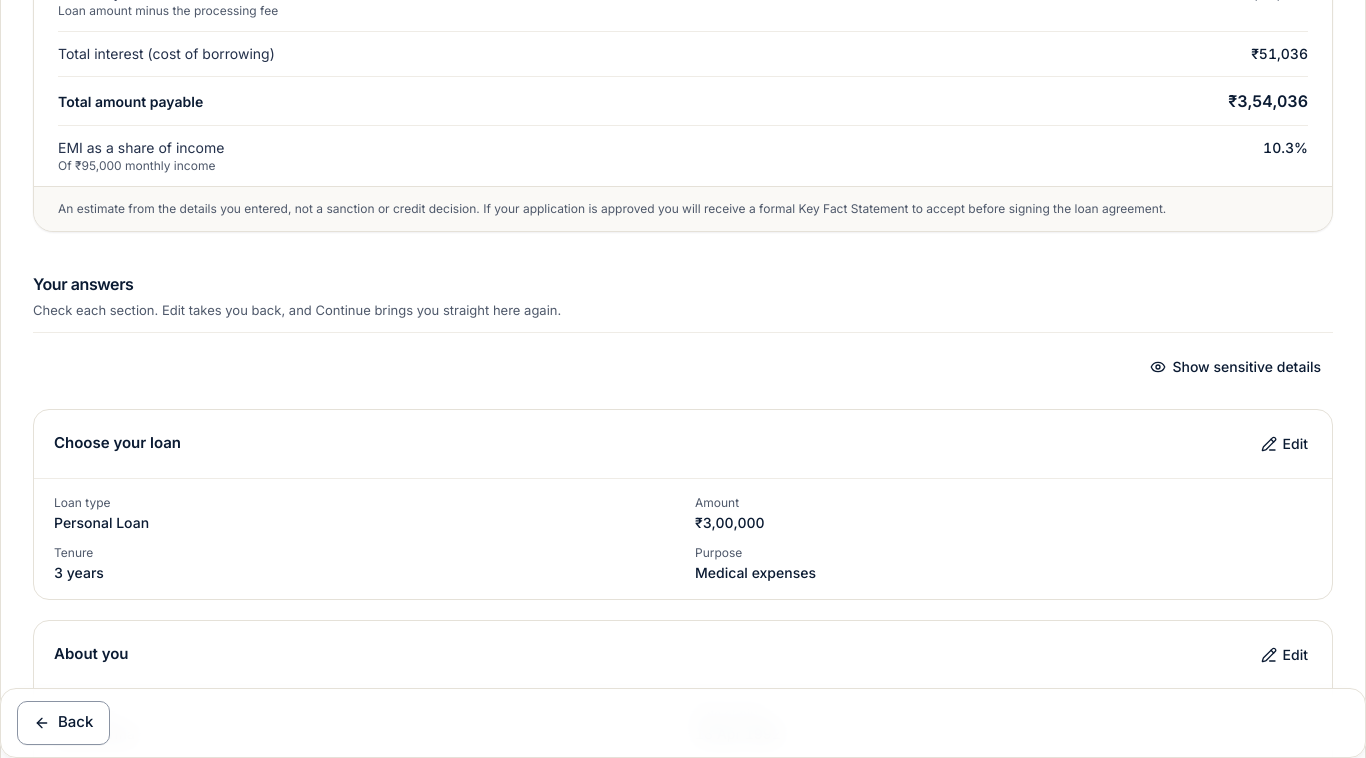
Test: Step 8 — review and submit › masks identifiers until the applicant reveals them
(page scrolled)
Click the button "Show sensitive details". click: [1236, 366]
box: [1138,344,1333,388]
(page scrolled)
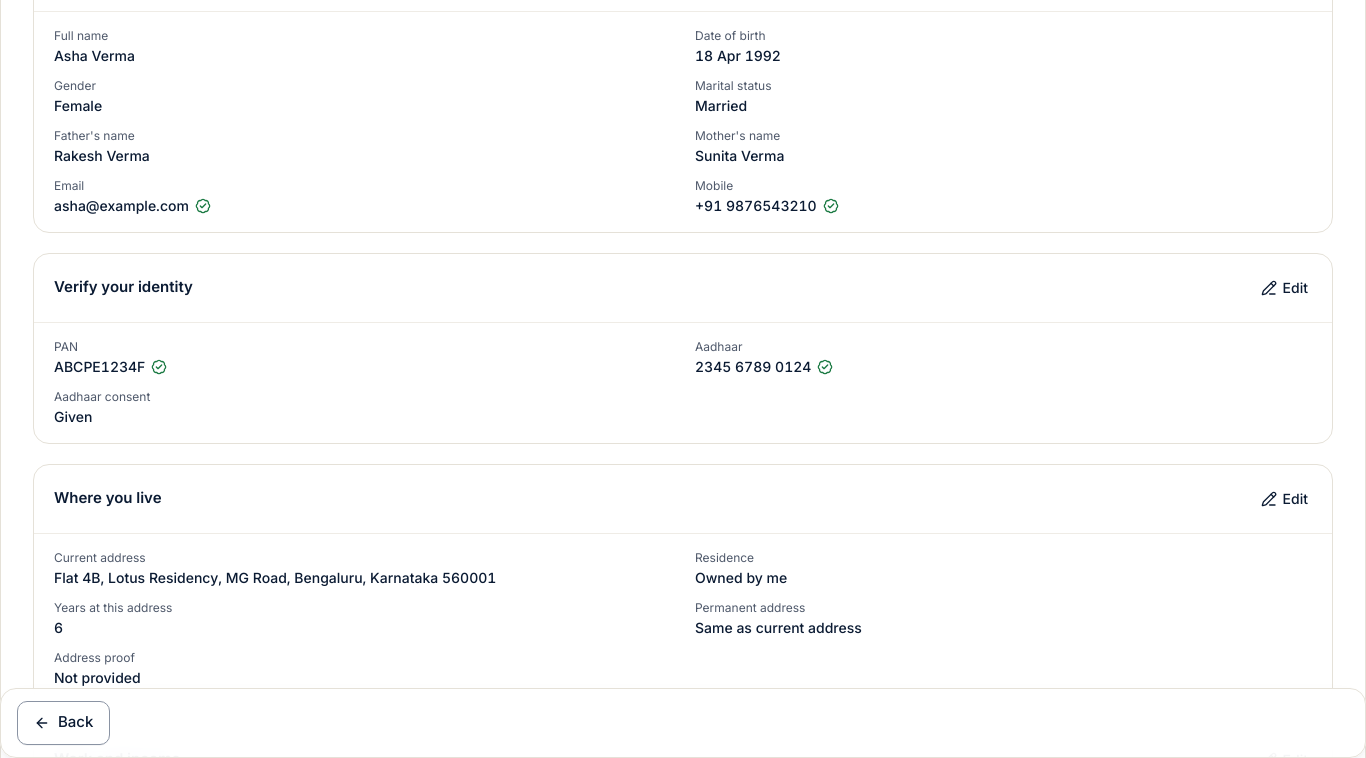
Expected: the text "ABCPE1234F" is shown, [54,356,145,376]
